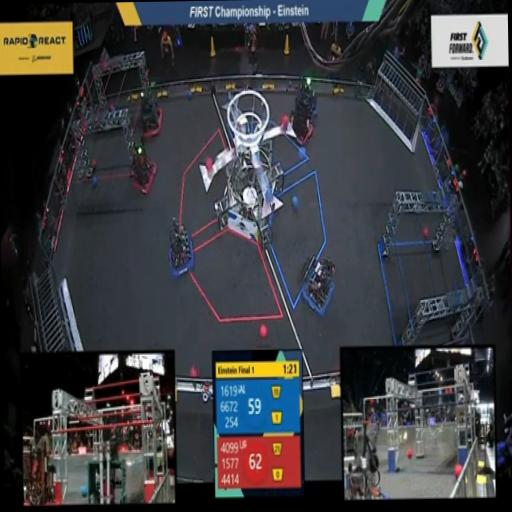robot: (296, 250, 338, 320), (122, 138, 160, 200), (165, 214, 197, 284), (133, 85, 165, 140), (290, 70, 320, 128), (285, 100, 315, 150)
